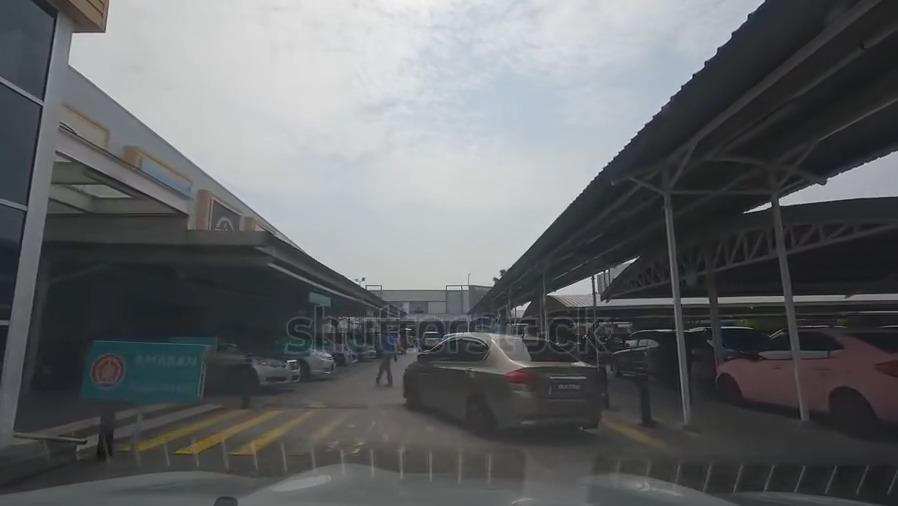car: (408, 337, 590, 423), (719, 329, 897, 407), (207, 339, 299, 390), (611, 334, 711, 379), (293, 342, 335, 376), (333, 340, 353, 363), (421, 331, 439, 346)
pedestrian: (117, 419, 691, 463)
person: (376, 325, 394, 383)
speedbump: (265, 398, 408, 411)
wheel: (467, 397, 491, 433), (229, 364, 255, 390), (405, 378, 418, 408)
